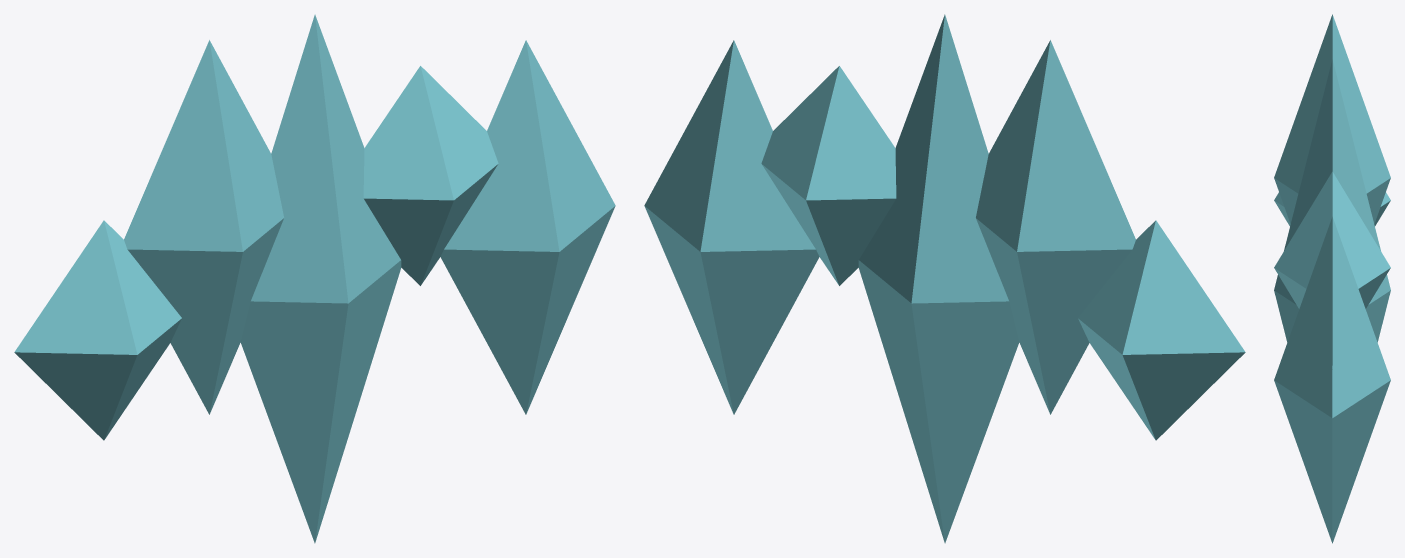
File: Mountain_Accent.fbx
The picture shows the model from 3 angles, left to right: view 1: azimuth 30°, elevation 25°; view 2: azimuth 150°, elevation 25°; view 3: azimuth 270°, elevation 25°; orthographic projection. The views are drawn at different scales.
Parts seen in each view (by area): view 1: Mountain_Accent; view 2: Mountain_Accent; view 3: Mountain_Accent.
Boxes of the visible parts, x1,y1,x2,y2 form: Mountain_Accent: [14, 14, 615, 543]; Mountain_Accent: [644, 14, 1245, 543]; Mountain_Accent: [1274, 14, 1390, 543].
Size of the model in its own units: 57 by 48 by 11.
